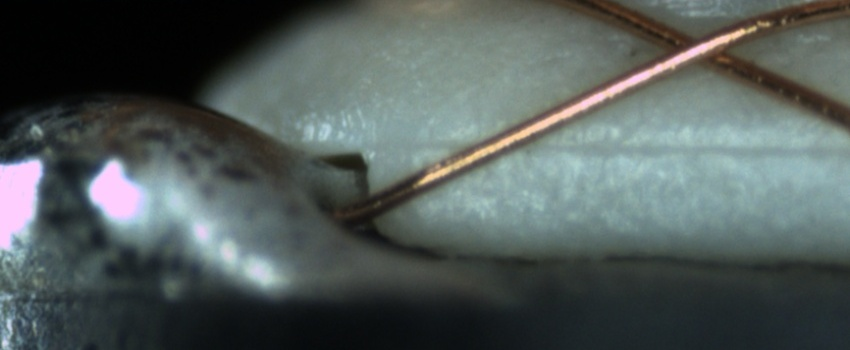CL: (635, 13, 753, 78)
DL: (408, 116, 850, 175)
